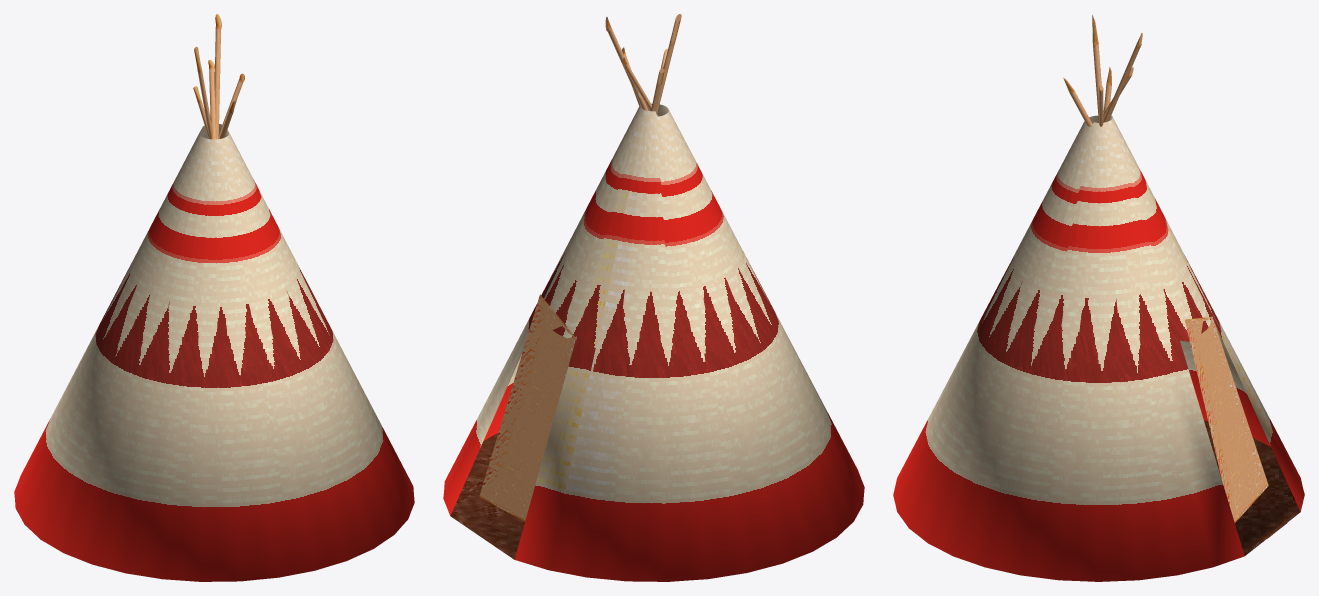
Rendered from tipi.gltf.
The picture shows the model from 3 angles, left to right: view 1: azimuth 30°, elevation 25°; view 2: azimuth 150°, elevation 25°; view 3: azimuth 270°, elevation 25°; orthographic projection. The views are drawn at different scales.
Visible parts, largest first — view 1: Cilindro.005, Cilindro.003; view 2: Cilindro.005, Plano; view 3: Cilindro.005, Plano.
Part boxes in pixels (x1,y1,x2,y2): Cilindro.005: (14, 124, 414, 581); Cilindro.003: (214, 14, 221, 139); Cilindro.005: (443, 103, 864, 581); Plano: (479, 294, 576, 521); Cilindro.005: (893, 115, 1304, 581); Plano: (1185, 316, 1268, 522).
Bounding box in the file's own units: 3.45 × 4.38 × 3.45.
5 materials, 5 textured.
